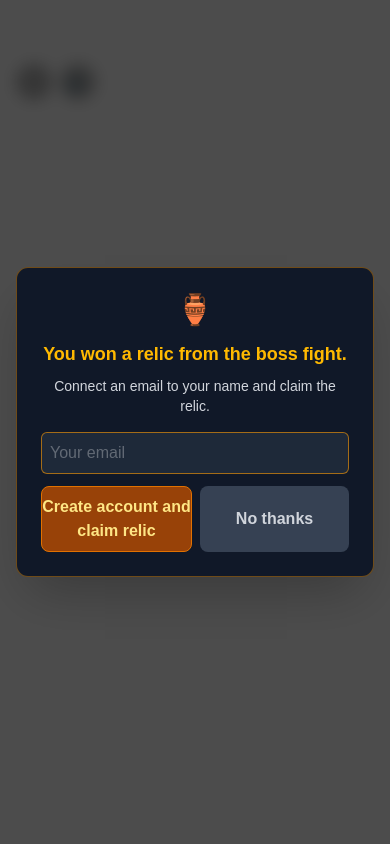
LobbyOverlay (BossSignupNudge gate) › dismisses the nudge and does not show it again for the same state
Check: the heading "You won a relic from the boss fight." is shown, box [41,340,349,368]
Click the button "No thanks" at (274, 519), box [200,486,349,552]
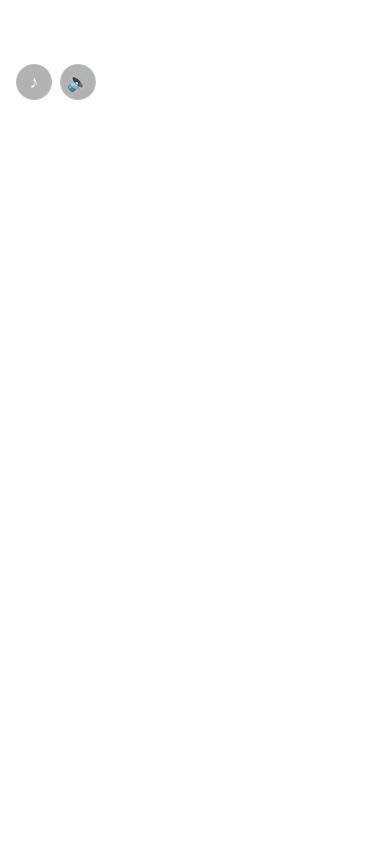
Check: the heading "You won a relic" is gone
